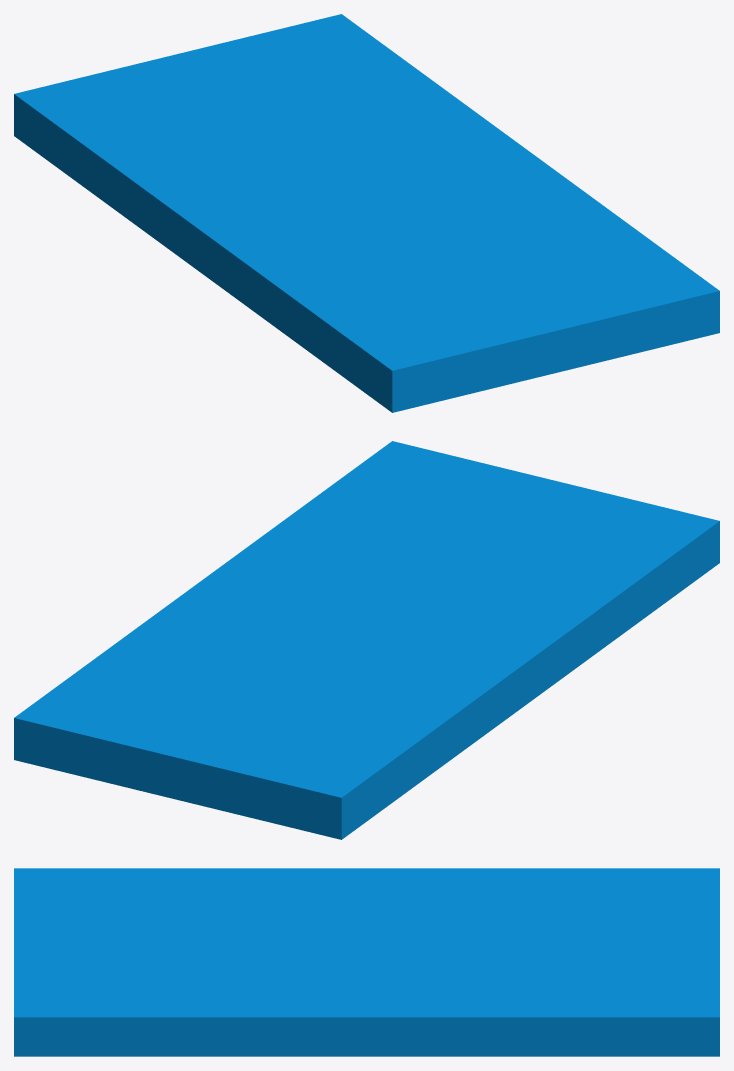
The model's file is Jigsaw_Color_08.fbx.
The picture shows the model from 3 angles, top to bottom: view 1: azimuth 30°, elevation 25°; view 2: azimuth 150°, elevation 25°; view 3: azimuth 270°, elevation 25°; orthographic projection. The views are drawn at different scales.
Visible parts, largest first — view 1: Jigsaw_Color_08; view 2: Jigsaw_Color_08; view 3: Jigsaw_Color_08.
Part boxes in pixels (left/top/right/bottom): Jigsaw_Color_08: left=14, top=14, right=719, bottom=412; Jigsaw_Color_08: left=14, top=441, right=719, bottom=839; Jigsaw_Color_08: left=14, top=868, right=719, bottom=1056.
Size of the model in its own units: 16.35 by 2.01 by 32.69.
